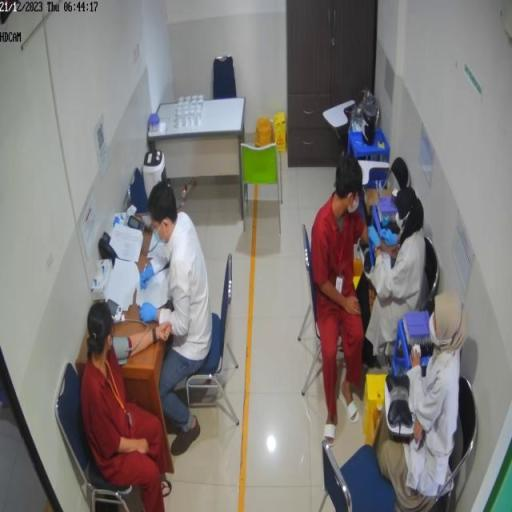person: (374, 288, 469, 509), (141, 181, 214, 455), (81, 302, 174, 512), (312, 157, 372, 446), (365, 189, 428, 371)
